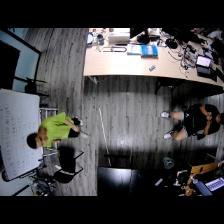normal: (26, 113, 91, 152), (163, 103, 224, 142)
